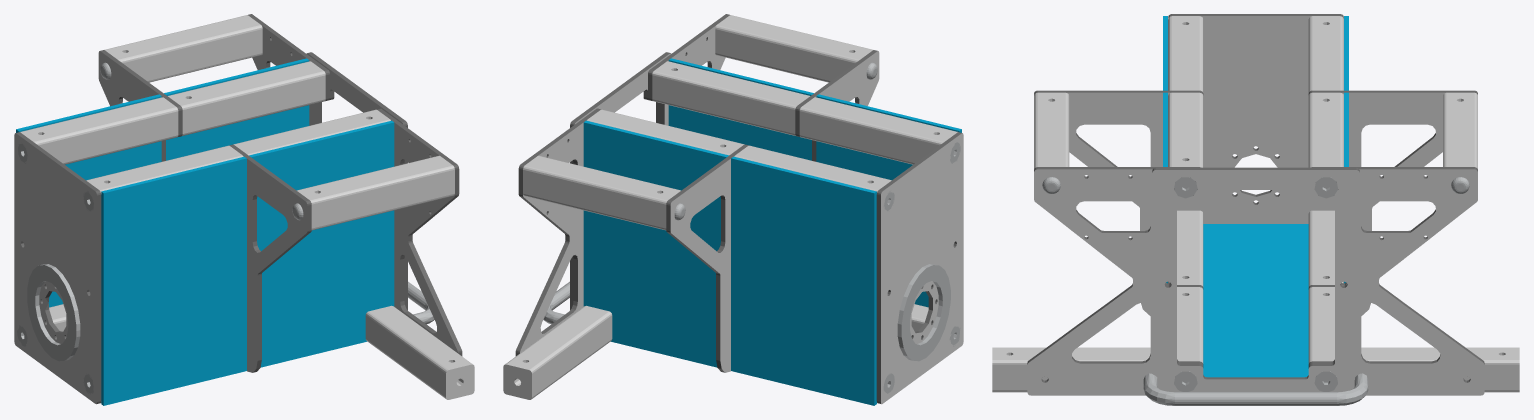
The model's file is base_block.dae.
3 views of the same model, side by side, from view 1: azimuth 30°, elevation 25°; view 2: azimuth 150°, elevation 25°; view 3: azimuth 270°, elevation 25° (orthographic). The views are drawn at different scales.
Parts seen in each view (by area): view 1: Outer_Panels, Rexroth, ShapeIndexedFaceSet_615, Mid_Plate, Side_Plates, Front_Plate, Handle; view 2: Outer_Panels, Rexroth, ShapeIndexedFaceSet_615, Mid_Plate, Side_Plates, Front_Plate, Handle; view 3: Rexroth, Side_Plates, ShapeIndexedFaceSet_615, Front_Plate, ShapeIndexedFaceSet_589, Mid_Plate, Handle, ShapeIndexedFaceSet_044, Outer_Panels, ShapeIndexedFaceSet_123.
Part boxes in pixels (left/top/right/bottom): Outer_Panels: left=16, top=58, right=394, bottom=405; Rexroth: left=20, top=15, right=474, bottom=403; ShapeIndexedFaceSet_615: left=14, top=132, right=101, bottom=404; Mid_Plate: left=98, top=50, right=311, bottom=372; Side_Plates: left=248, top=14, right=462, bottom=356; Front_Plate: left=306, top=52, right=407, bottom=309; Handle: left=408, top=281, right=434, bottom=324; Outer_Panels: left=583, top=58, right=961, bottom=405; Rexroth: left=503, top=15, right=957, bottom=399; ShapeIndexedFaceSet_615: left=876, top=132, right=963, bottom=404; Mid_Plate: left=666, top=50, right=879, bottom=372; Side_Plates: left=515, top=14, right=729, bottom=355; Front_Plate: left=570, top=52, right=671, bottom=309; Handle: left=543, top=281, right=569, bottom=324; Rexroth: left=992, top=16, right=1519, bottom=392; Side_Plates: left=1027, top=167, right=1484, bottom=395; ShapeIndexedFaceSet_615: left=1168, top=14, right=1343, bottom=223; Front_Plate: left=1152, top=167, right=1359, bottom=391; ShapeIndexedFaceSet_589: left=1203, top=224, right=1308, bottom=377; Mid_Plate: left=1034, top=90, right=1477, bottom=315; Handle: left=1143, top=373, right=1368, bottom=405; ShapeIndexedFaceSet_044: left=1174, top=177, right=1337, bottom=391; Outer_Panels: left=1163, top=16, right=1348, bottom=283; ShapeIndexedFaceSet_123: left=1042, top=177, right=1469, bottom=193.
Size of the model in its own units: 0.2417 by 0.2999 by 0.1429.
